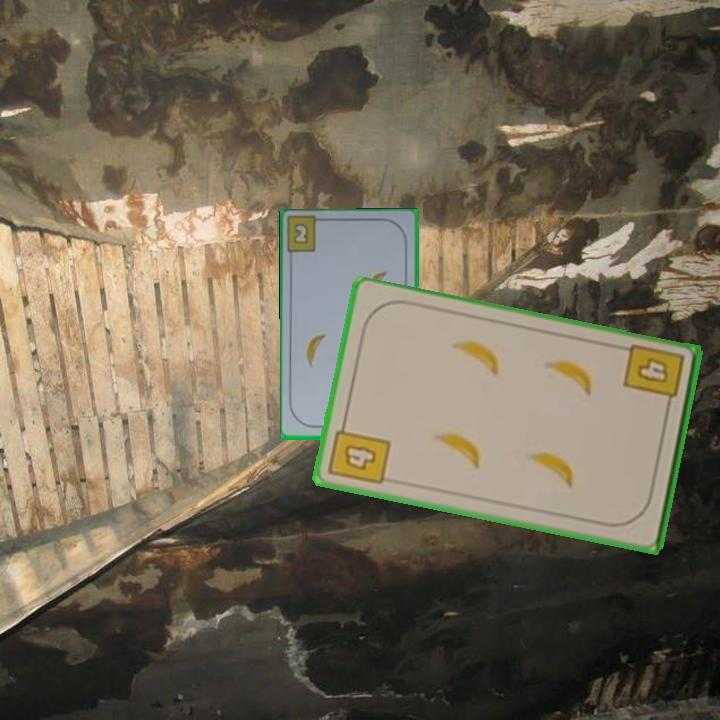2b: (290, 219, 311, 247)
4b: (325, 416, 393, 489), (620, 340, 687, 414)
